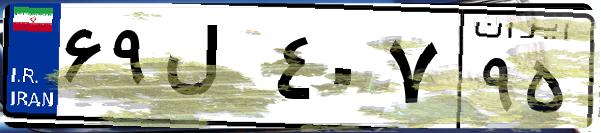0: (330, 28, 385, 110)
4: (270, 28, 330, 110)
5: (525, 38, 570, 115)
6: (57, 26, 110, 100)
7: (385, 28, 445, 110)
9: (475, 38, 525, 113), (110, 28, 158, 98)
ل: (158, 20, 270, 120)
